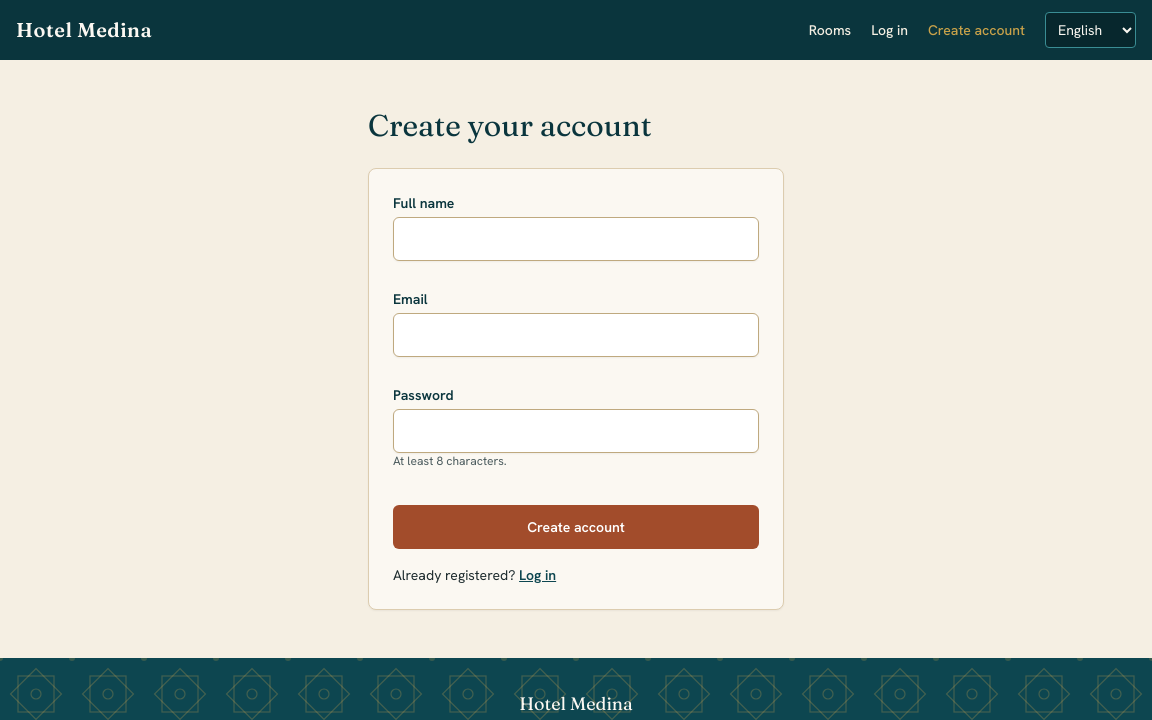
Test: auth guards › validates the register form client-side
The image size is (1152, 720).
Step 1. Type "short" into the password field labelled "Password" → (576, 431), box [393, 409, 759, 453]
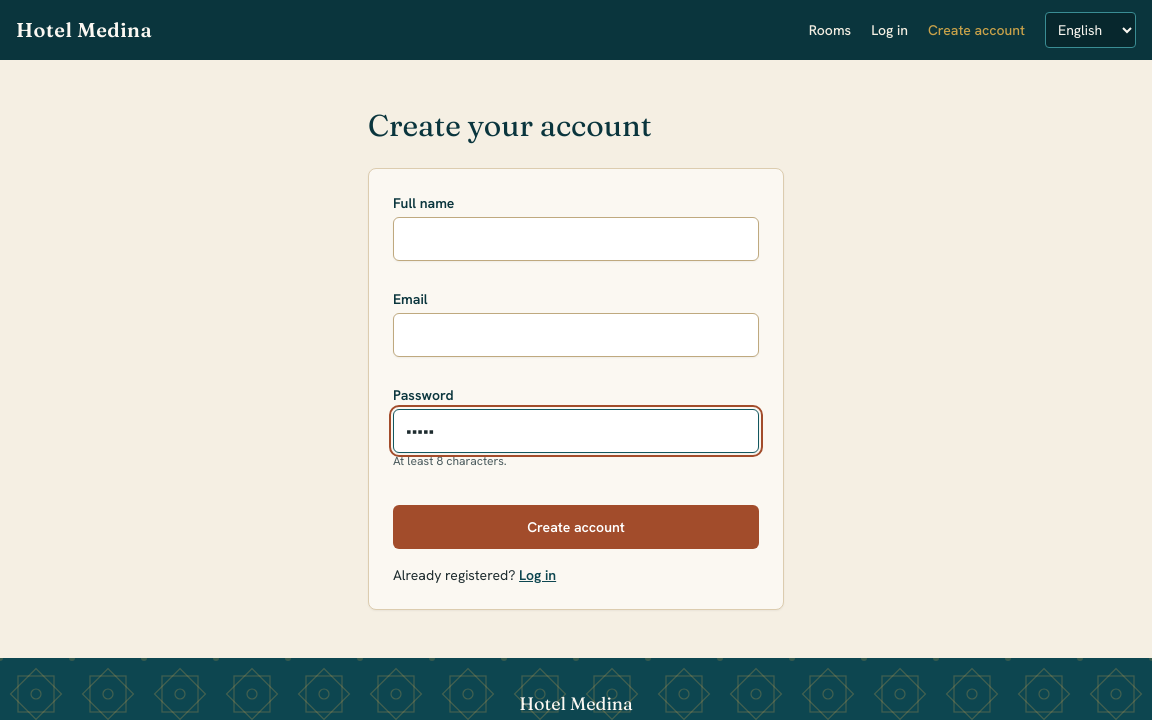
Step 2. Click the button "Create account" → (576, 527), box [393, 505, 759, 549]
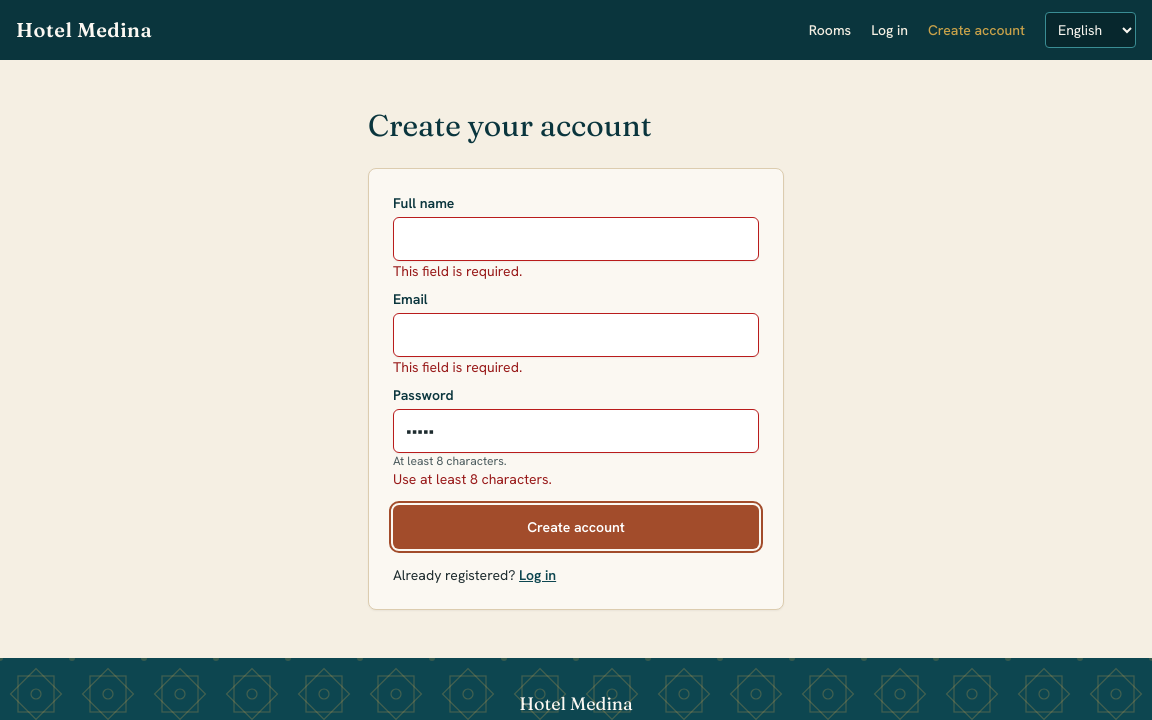
Expected: the text "This field is required." is shown 2 times, [393, 262, 522, 280]; [393, 358, 522, 376]
Now the text "Use at least 8 characters." is shown, box [393, 470, 552, 488]
